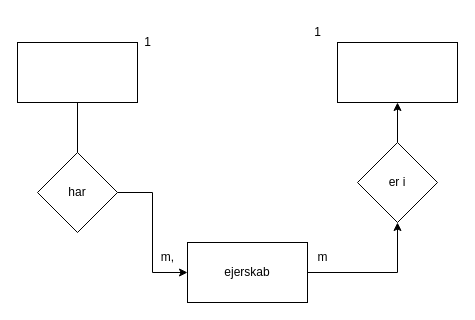
The diagram is 475 pixels wide and 320 high, and some of its shapes have lost their labels. The box of each missing label's shape, as (x1, y1, x2, y2) in pixels:
Bil ID: (336, 42, 458, 102)
kunde ID: (16, 42, 138, 102)
